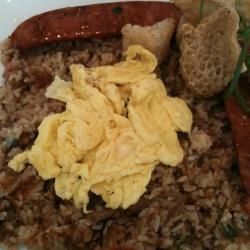bread: (120, 11, 241, 98)
omelette: (47, 66, 181, 204)
